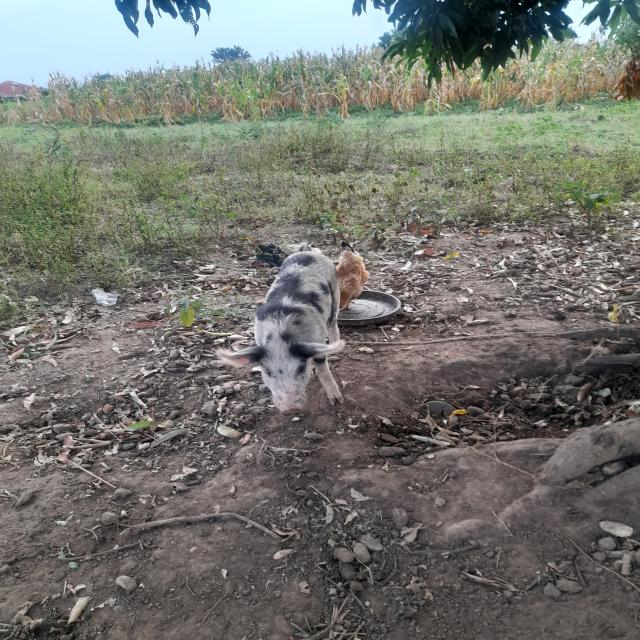pig: (184, 202, 377, 437)
